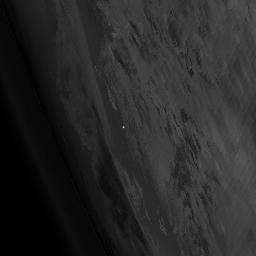Target: (121, 125, 126, 129)
